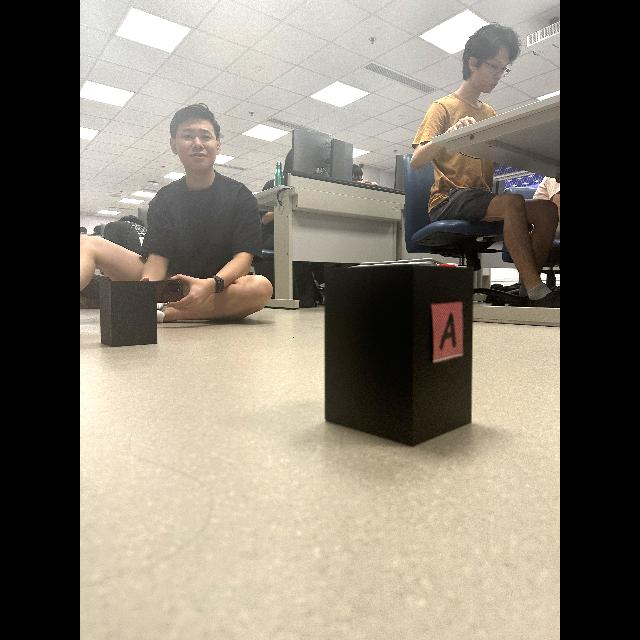A: (440, 313, 456, 350)
